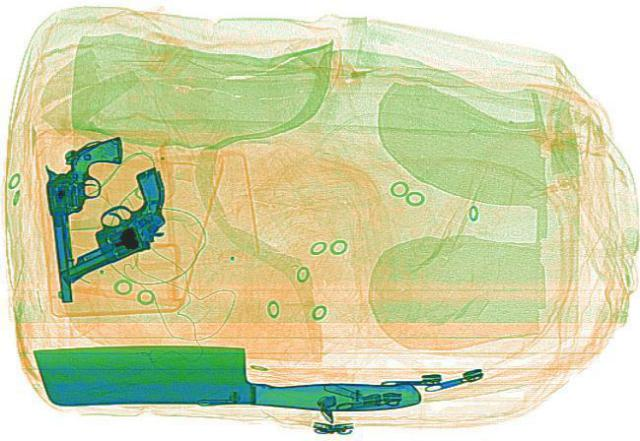Gun: (8, 163, 216, 284), (42, 134, 136, 301)
Knife: (32, 342, 420, 412)
